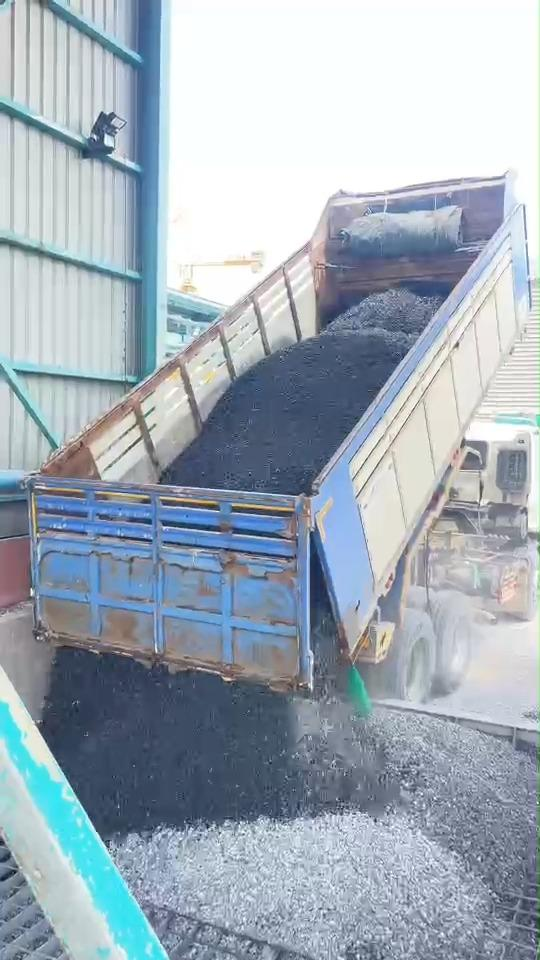gravel: (43, 651, 534, 959), (112, 704, 536, 959), (43, 650, 398, 835), (163, 288, 441, 493), (112, 811, 489, 959), (163, 329, 408, 494), (325, 288, 443, 341), (356, 755, 357, 758)
